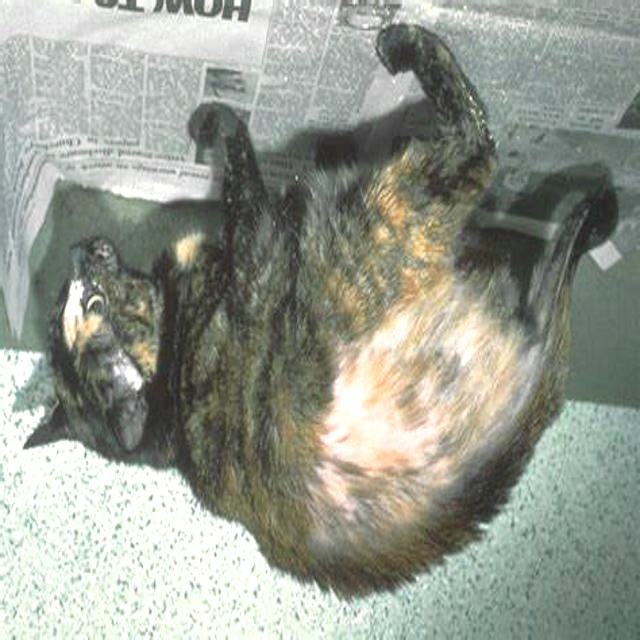hairloss: (334, 333, 541, 514)
